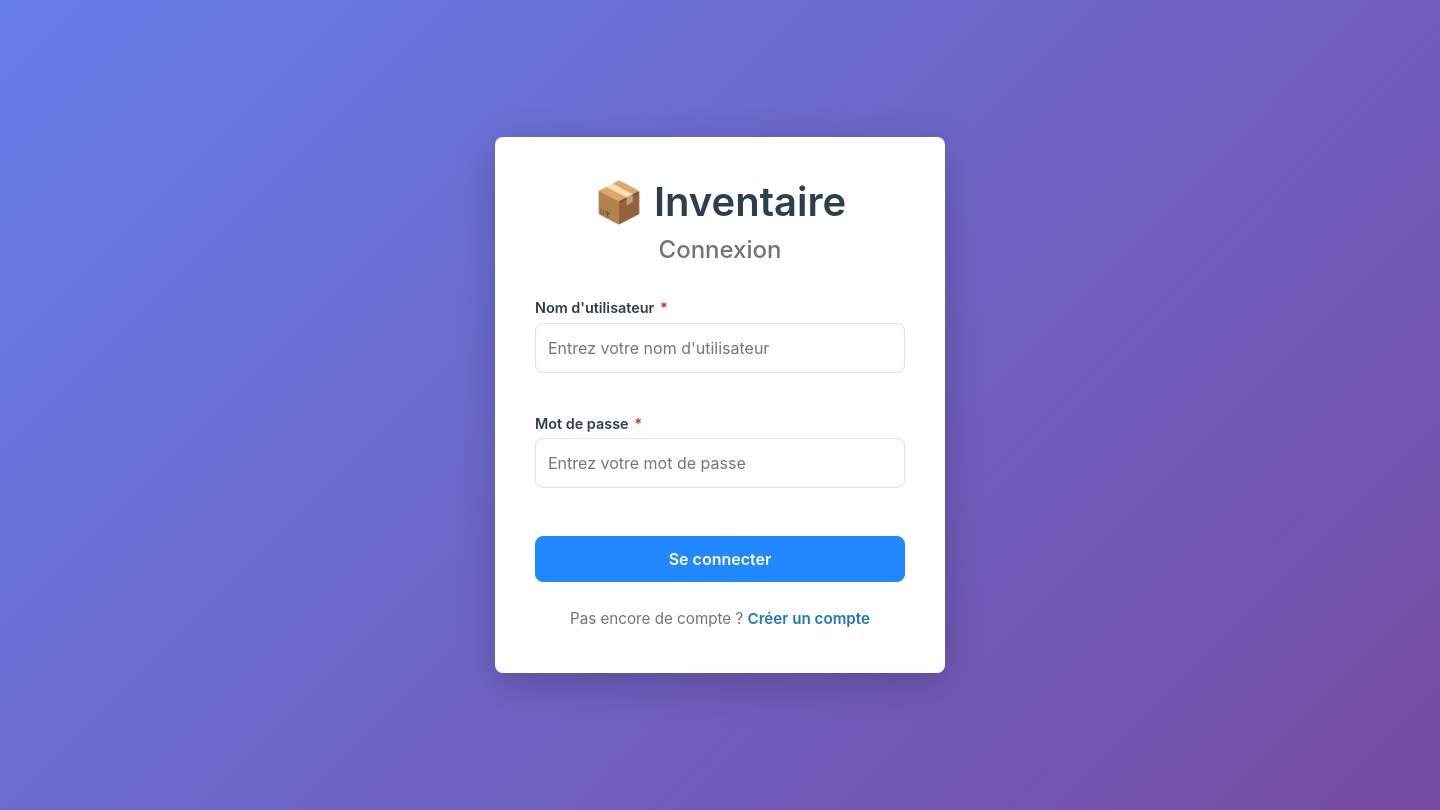
Scenario: Login › efface l'erreur quand on modifie le champ
The width and height of the screenshot is (1440, 810).
Click the button "Se connecter".
click(720, 559)  # box [535,536,905,582]
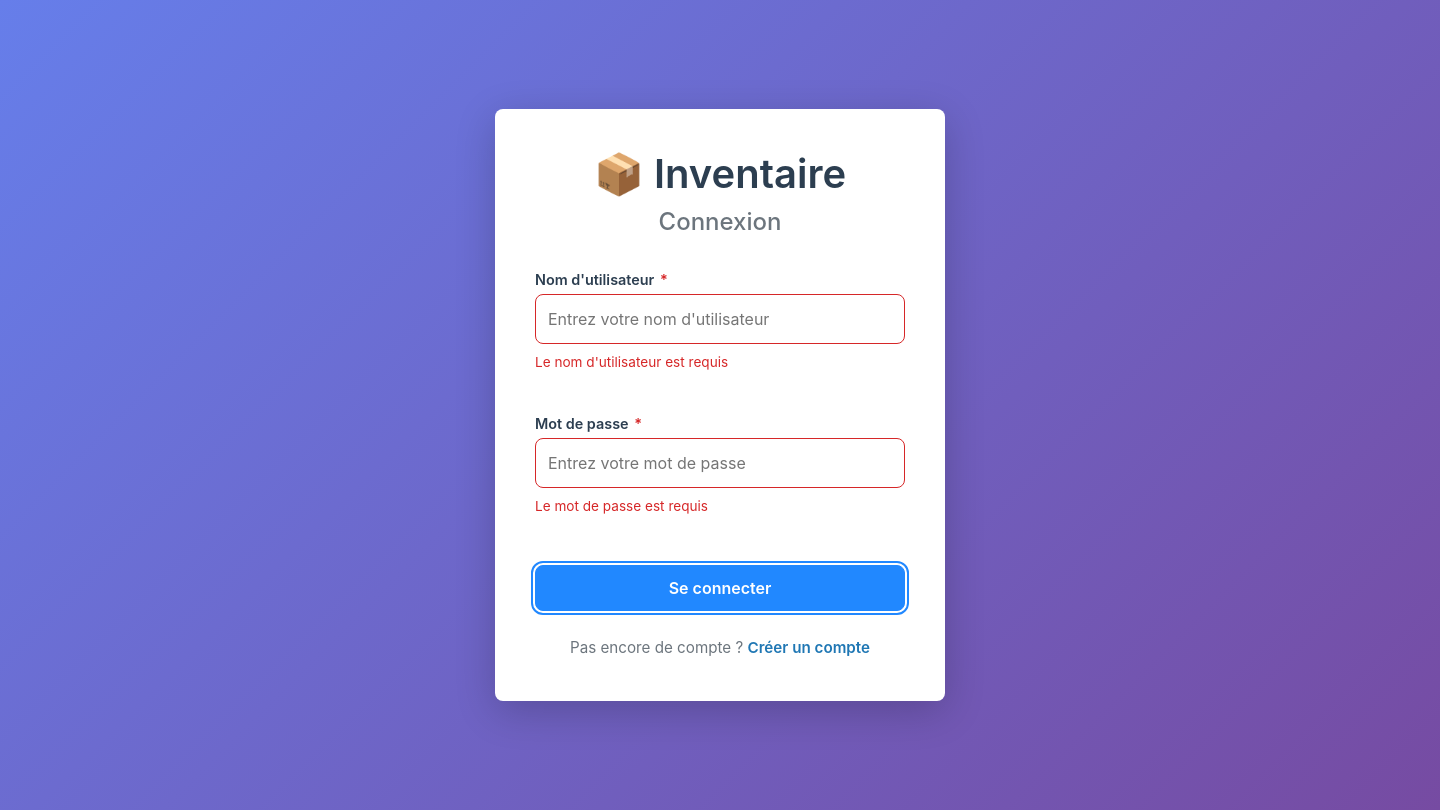
Now the text "Le nom d'utilisateur est requis" is shown, box [535,354,728,370]
Type "a" into the field labelled "Nom d'utilisateur *".
click(720, 319); type("a")  # box [535,294,905,344]
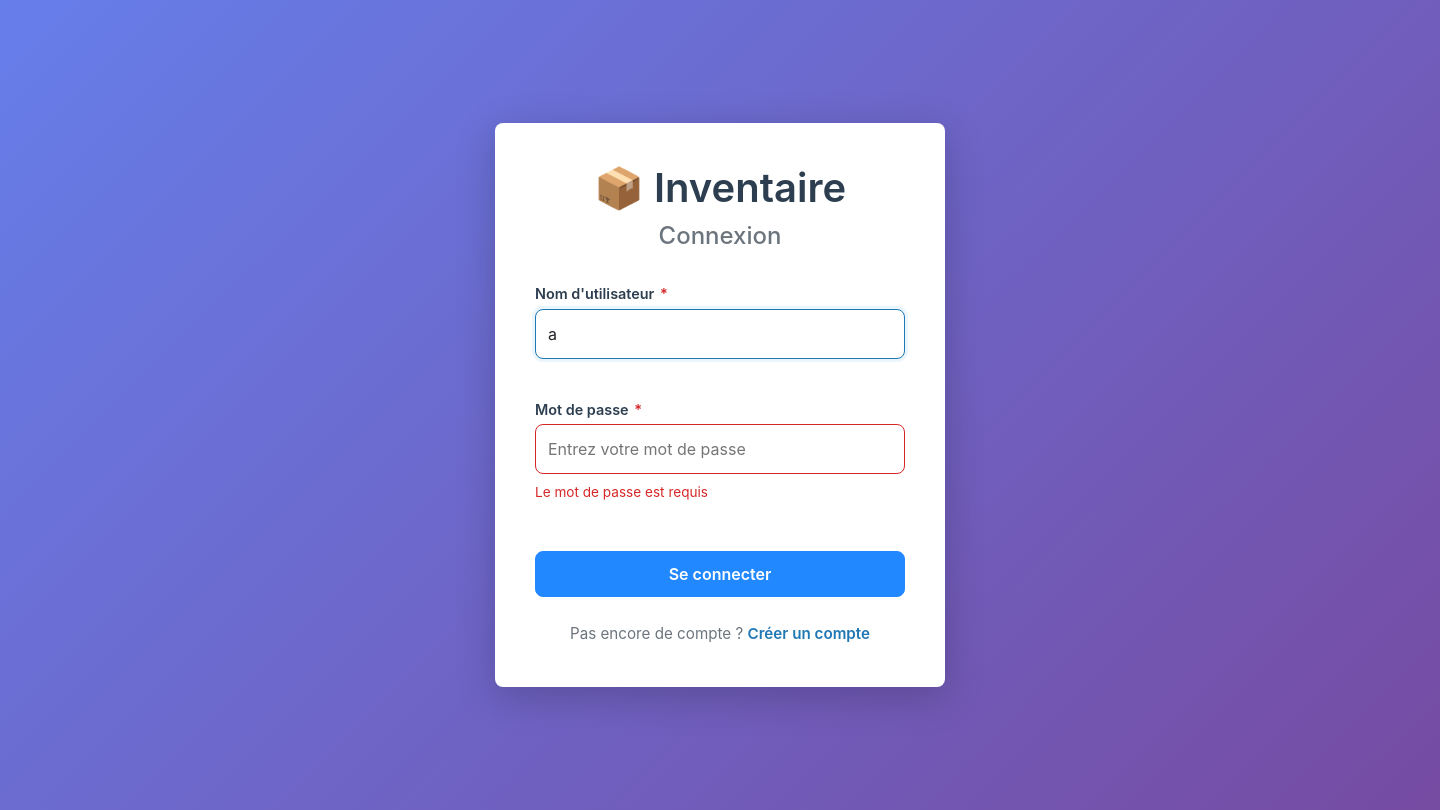
Now the text "Le nom d'utilisateur est requis" is gone
